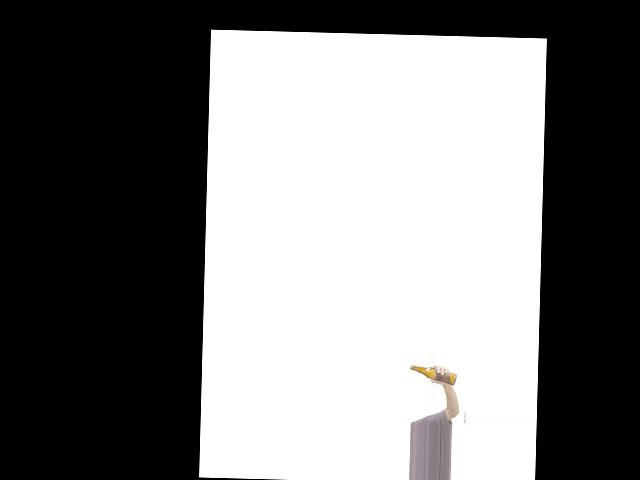beer: (409, 364, 457, 385)
